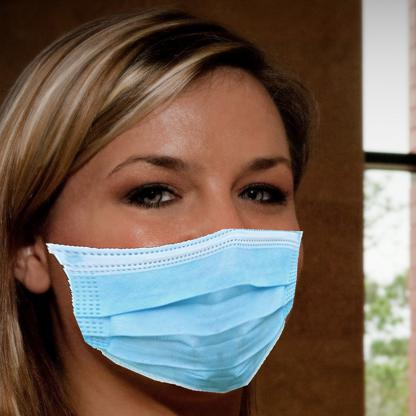mask: (41, 225, 306, 399)
